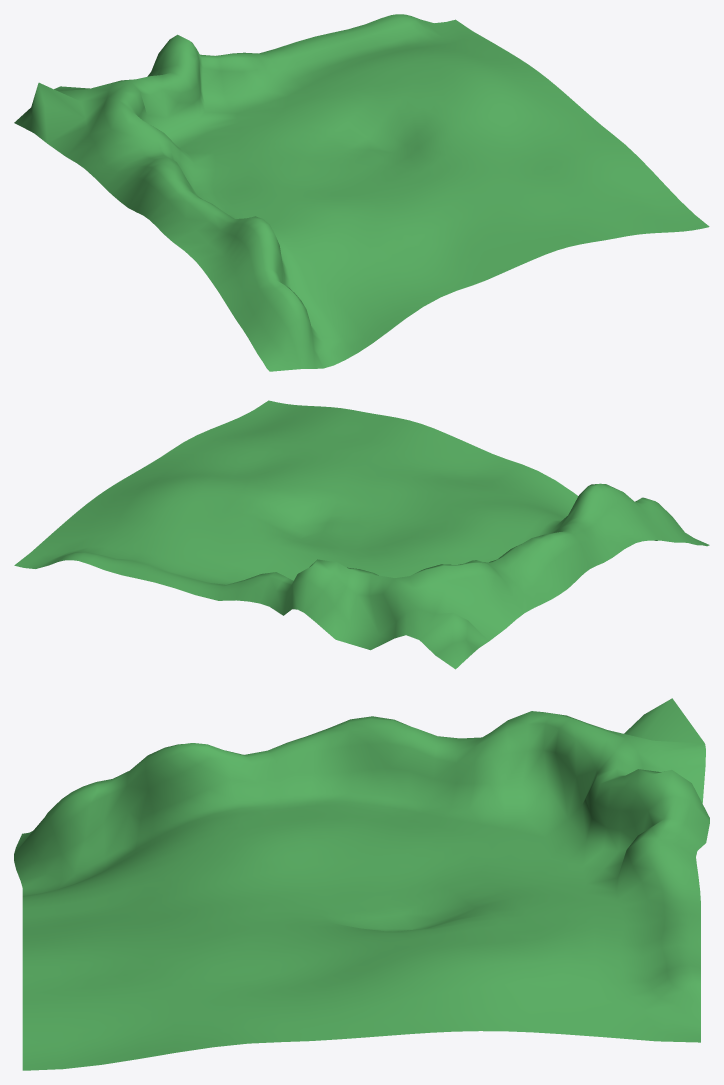
File: ground1.fbx
3 views of the same model, one above another, from view 1: azimuth 30°, elevation 25°; view 2: azimuth 150°, elevation 25°; view 3: azimuth 270°, elevation 25° (orthographic). The views are drawn at different scales.
Visible parts, largest first — view 1: ground1; view 2: ground1; view 3: ground1.
Part boxes in pixels (bbox=[...]): ground1: bbox=[14, 14, 709, 371]; ground1: bbox=[14, 400, 709, 669]; ground1: bbox=[14, 698, 709, 1070].
Size of the model in its own units: 667 by 189 by 681.
